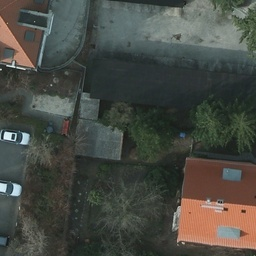car: (1, 127, 29, 145), (1, 183, 24, 197)
